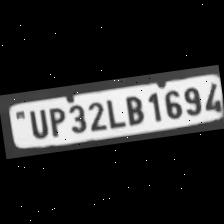1: (141, 90, 164, 125)
2: (84, 98, 107, 133)
3: (64, 100, 88, 136)
4: (200, 80, 222, 114)
6: (160, 86, 184, 121)
9: (179, 83, 203, 117)
B: (120, 92, 146, 128)
L: (102, 95, 124, 129)
P: (42, 104, 66, 138)
U: (24, 106, 48, 140)
